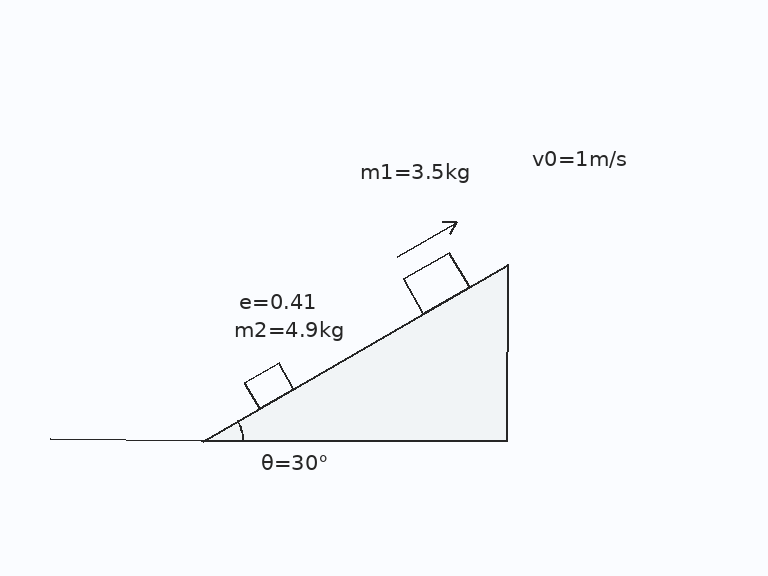block: (401, 251, 471, 315), (242, 361, 295, 410)
ramp: (201, 262, 509, 442)
